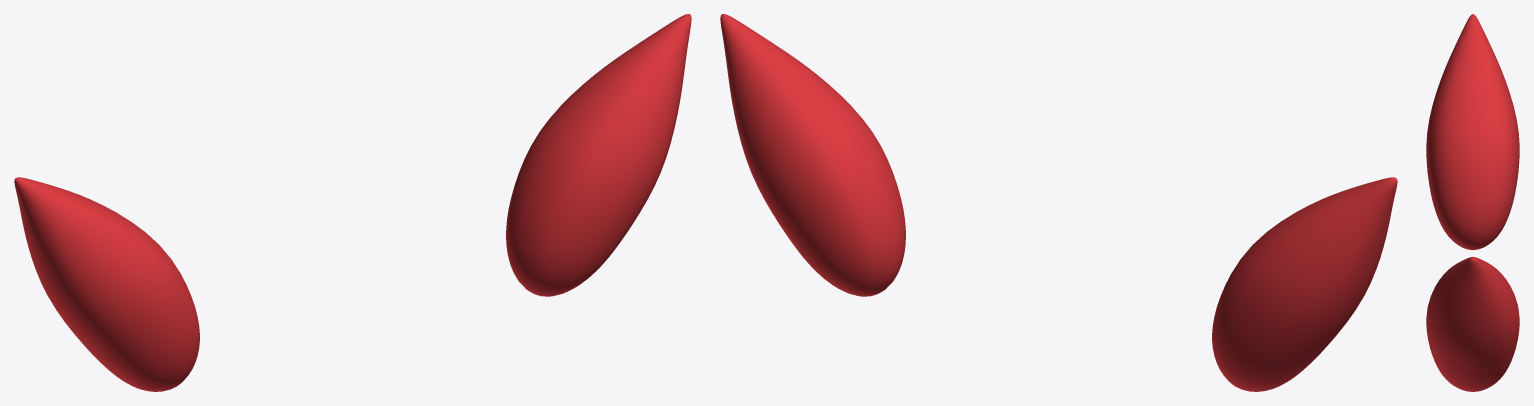
File: devil_horns.glb
The picture shows the model from 3 angles, left to right: view 1: azimuth 30°, elevation 25°; view 2: azimuth 150°, elevation 25°; view 3: azimuth 270°, elevation 25°; orthographic projection. The views are drawn at different scales.
Parts seen in each view (by area): view 1: ACC_devil_horn1, ACC_devil_horn-1; view 2: ACC_devil_horn1, ACC_devil_horn-1; view 3: ACC_devil_horn-1, ACC_devil_horn1.
Part boxes in pixels (x1,y1,x2,y2): ACC_devil_horn1: (506,14,691,296); ACC_devil_horn-1: (14,177,199,391); ACC_devil_horn1: (720,14,905,296); ACC_devil_horn-1: (1212,177,1397,391); ACC_devil_horn-1: (1426,14,1519,249); ACC_devil_horn1: (1426,257,1519,391).
Size of the model in its own units: 0.7922 by 0.2742 by 0.1275.
